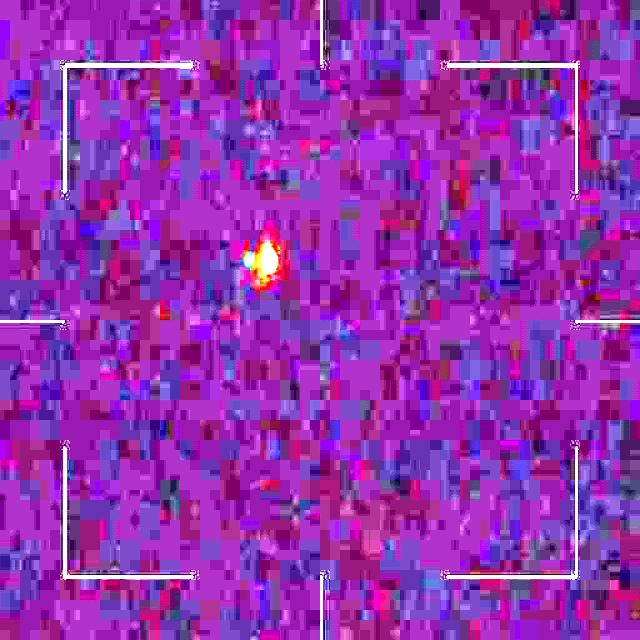bird: (242, 241, 281, 292)
